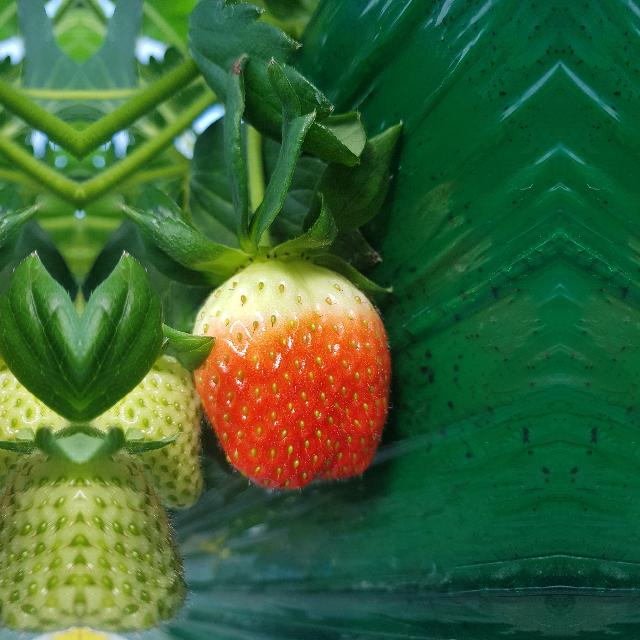Health_25: (80, 314, 206, 510), (80, 451, 188, 633), (0, 314, 80, 510), (0, 451, 80, 633)
Health_75: (188, 259, 390, 495)
